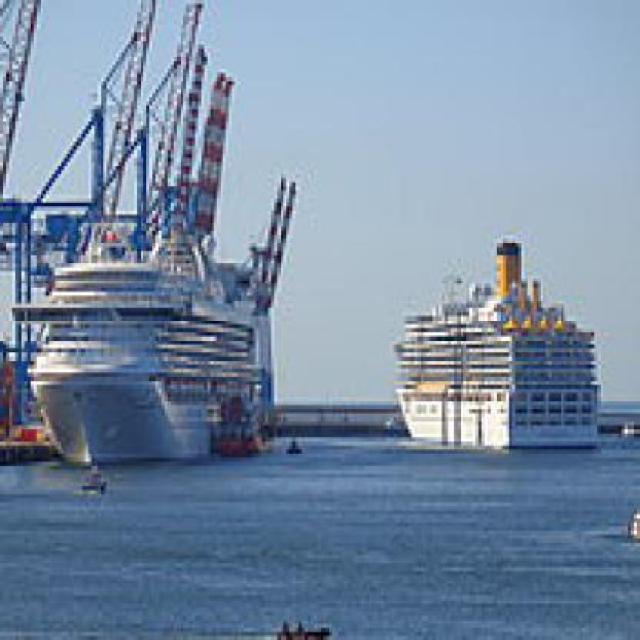cruise: (14, 216, 297, 491), (385, 269, 620, 470)
